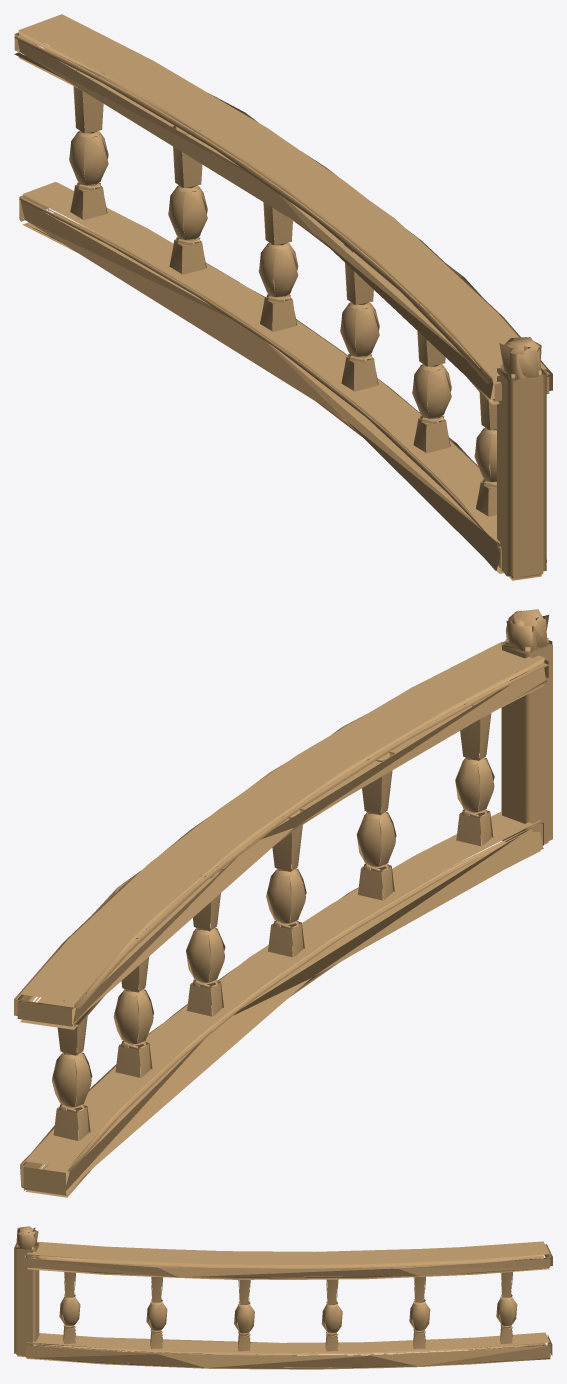
The model's file is boss_baluster_section.glb.
3 renders of one model, top to bottom at view 1: azimuth 30°, elevation 25°; view 2: azimuth 150°, elevation 25°; view 3: azimuth 270°, elevation 25°, orthographic. The views are drawn at different scales.
Parts seen in each view (by area): view 1: TopHandrail, BottomPlinth, MidPost, BalBelly_1, BalBelly_2, BalBelly_3, BalBelly_4, BalBelly_5, MidPostCap, BalNeck_5, BalBase_4, BalBase_1 (+7 smaller); view 2: TopHandrail, BottomPlinth, MidPost, BalBelly_4, BalBelly_5, BalBelly_2, BalBelly_1, BalBelly_3, BalBelly_0, MidPostCap, BalBase_5, BalBase_2 (+8 smaller); view 3: TopHandrail, BottomPlinth, MidPost, BalBelly_5, BalBelly_4, BalBelly_0, BalBelly_1, BalBelly_3, BalBelly_2, MidPostCap, BalNeck_1, BalNeck_4 (+10 smaller).
Part boxes in pixels (x1=…): TopHandrail: x1=14, y1=14, x2=552, y2=404; BottomPlinth: x1=19, y1=182, x2=546, y2=573; MidPost: x1=497, y1=363, x2=546, y2=580; BalBelly_1: x1=412, y1=364, x2=451, y2=419; BalBelly_2: x1=340, y1=302, x2=379, y2=357; BalBelly_3: x1=258, y1=243, x2=298, y2=297; BalBelly_4: x1=168, y1=185, x2=207, y2=240; BalBelly_5: x1=69, y1=131, x2=108, y2=185; MidPostCap: x1=499, y1=337, x2=541, y2=379; BalNeck_5: x1=73, y1=65, x2=105, y2=134; BalBase_4: x1=169, y1=237, x2=206, y2=274; BalBase_1: x1=413, y1=415, x2=450, y2=453; TopHandrail: x1=14, y1=642, x2=548, y2=1029; BottomPlinth: x1=20, y1=812, x2=543, y2=1197; MidPost: x1=501, y1=632, x2=552, y2=844; BalBelly_4: x1=113, y1=986, x2=153, y2=1044; BalBelly_5: x1=52, y1=1049, x2=92, y2=1107; BalBelly_2: x1=266, y1=865, x2=306, y2=923; BalBelly_1: x1=356, y1=808, x2=396, y2=867; BalBelly_3: x1=186, y1=925, x2=225, y2=983; BalBelly_0: x1=455, y1=755, x2=494, y2=812; MidPostCap: x1=506, y1=609, x2=549, y2=651; BalBase_5: x1=53, y1=1103, x2=90, y2=1140; BalBase_2: x1=268, y1=919, x2=304, y2=957; TopHandrail: x1=23, y1=1241, x2=552, y2=1279; BottomPlinth: x1=24, y1=1332, x2=552, y2=1369; MidPost: x1=14, y1=1243, x2=39, y2=1357; BalBelly_5: x1=496, y1=1296, x2=517, y2=1326; BalBelly_4: x1=409, y1=1301, x2=430, y2=1330; BalBelly_0: x1=59, y1=1296, x2=80, y2=1325; BalBelly_1: x1=146, y1=1301, x2=167, y2=1330; BalBelly_3: x1=321, y1=1304, x2=342, y2=1333; BalBelly_2: x1=234, y1=1303, x2=254, y2=1333; MidPostCap: x1=16, y1=1226, x2=38, y2=1249; BalNeck_1: x1=151, y1=1266, x2=162, y2=1303; BalNeck_4: x1=413, y1=1266, x2=425, y2=1303.
Bounding box in the file's own units: 0.8279 × 1.83 × 7.13.
